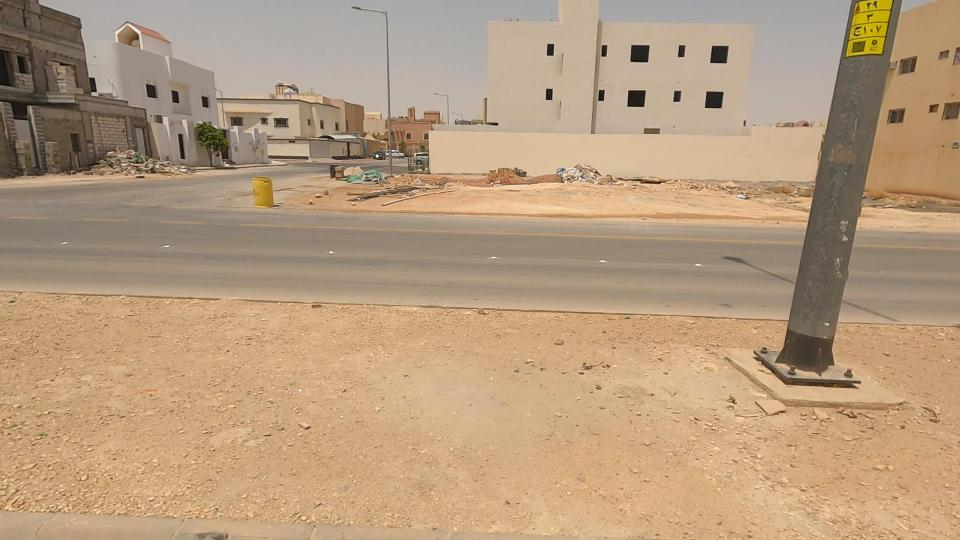CLUTTER_SIDEWALK: (275, 236, 960, 540), (0, 204, 582, 540)
GARBAGE: (48, 116, 234, 215), (506, 135, 671, 212), (318, 167, 456, 225), (695, 158, 776, 226), (317, 146, 406, 201)
